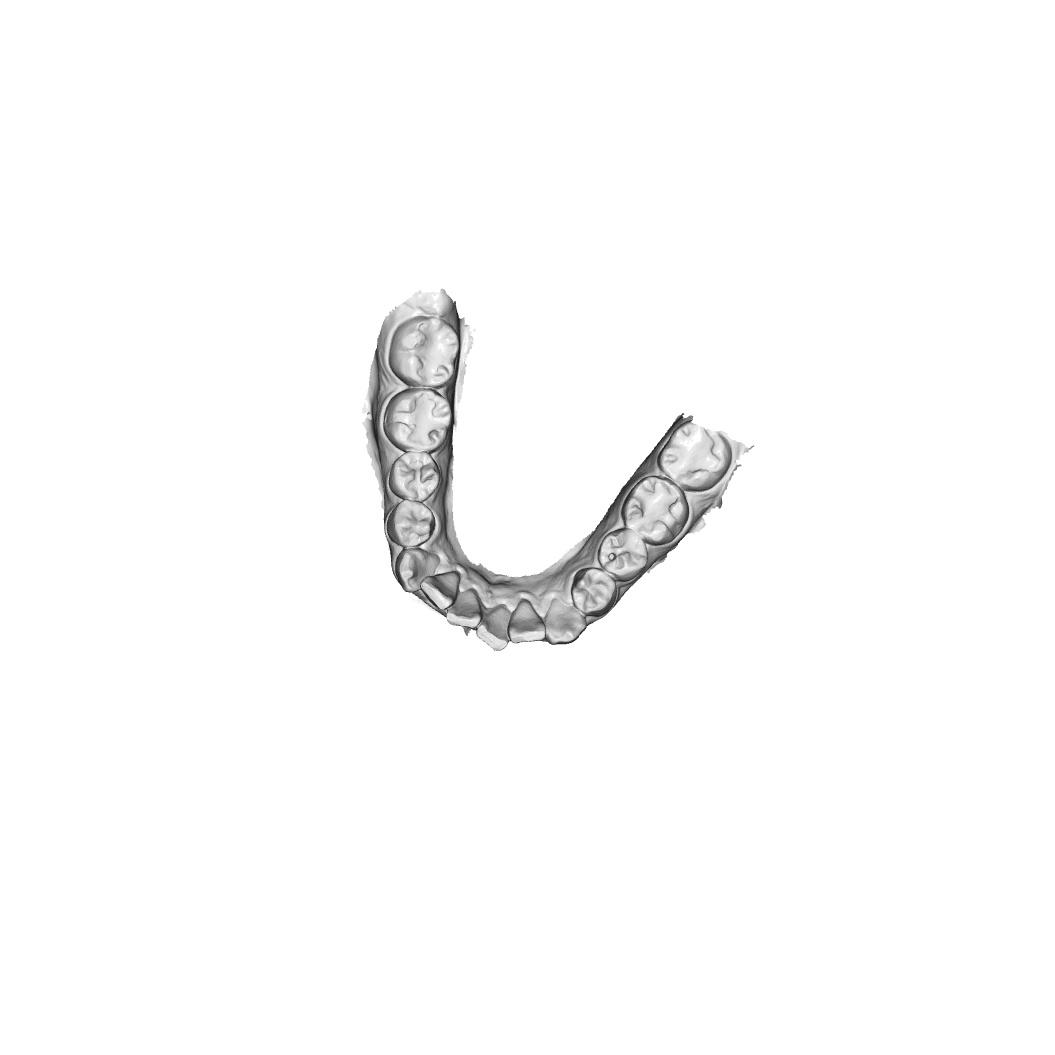canine: (394, 547, 441, 594), (543, 598, 588, 646)
incisor: (507, 598, 547, 644), (419, 569, 461, 611), (476, 603, 512, 652), (445, 587, 482, 630)
molar: (655, 419, 733, 493), (388, 315, 462, 388), (620, 475, 691, 547), (381, 387, 453, 452)
premolar: (388, 450, 442, 503), (597, 527, 649, 582), (386, 499, 436, 549), (570, 567, 619, 618)
